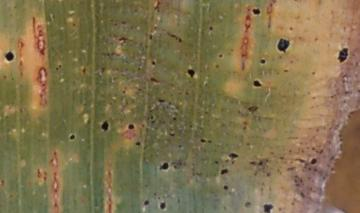tarspot: (335, 43, 350, 65), (274, 36, 291, 54), (248, 76, 267, 90), (183, 66, 199, 81), (157, 158, 172, 173), (98, 118, 112, 133), (226, 150, 242, 163), (261, 199, 275, 213), (249, 5, 263, 18), (217, 164, 230, 177), (3, 49, 15, 63), (155, 200, 170, 211), (125, 120, 137, 133), (219, 181, 232, 193), (307, 155, 319, 168), (257, 54, 268, 68), (67, 130, 77, 145), (139, 196, 152, 207), (133, 139, 143, 148)
